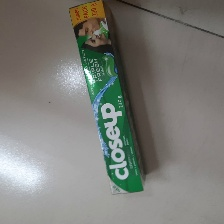CloseUp Xanh: (67, 1, 147, 195)
